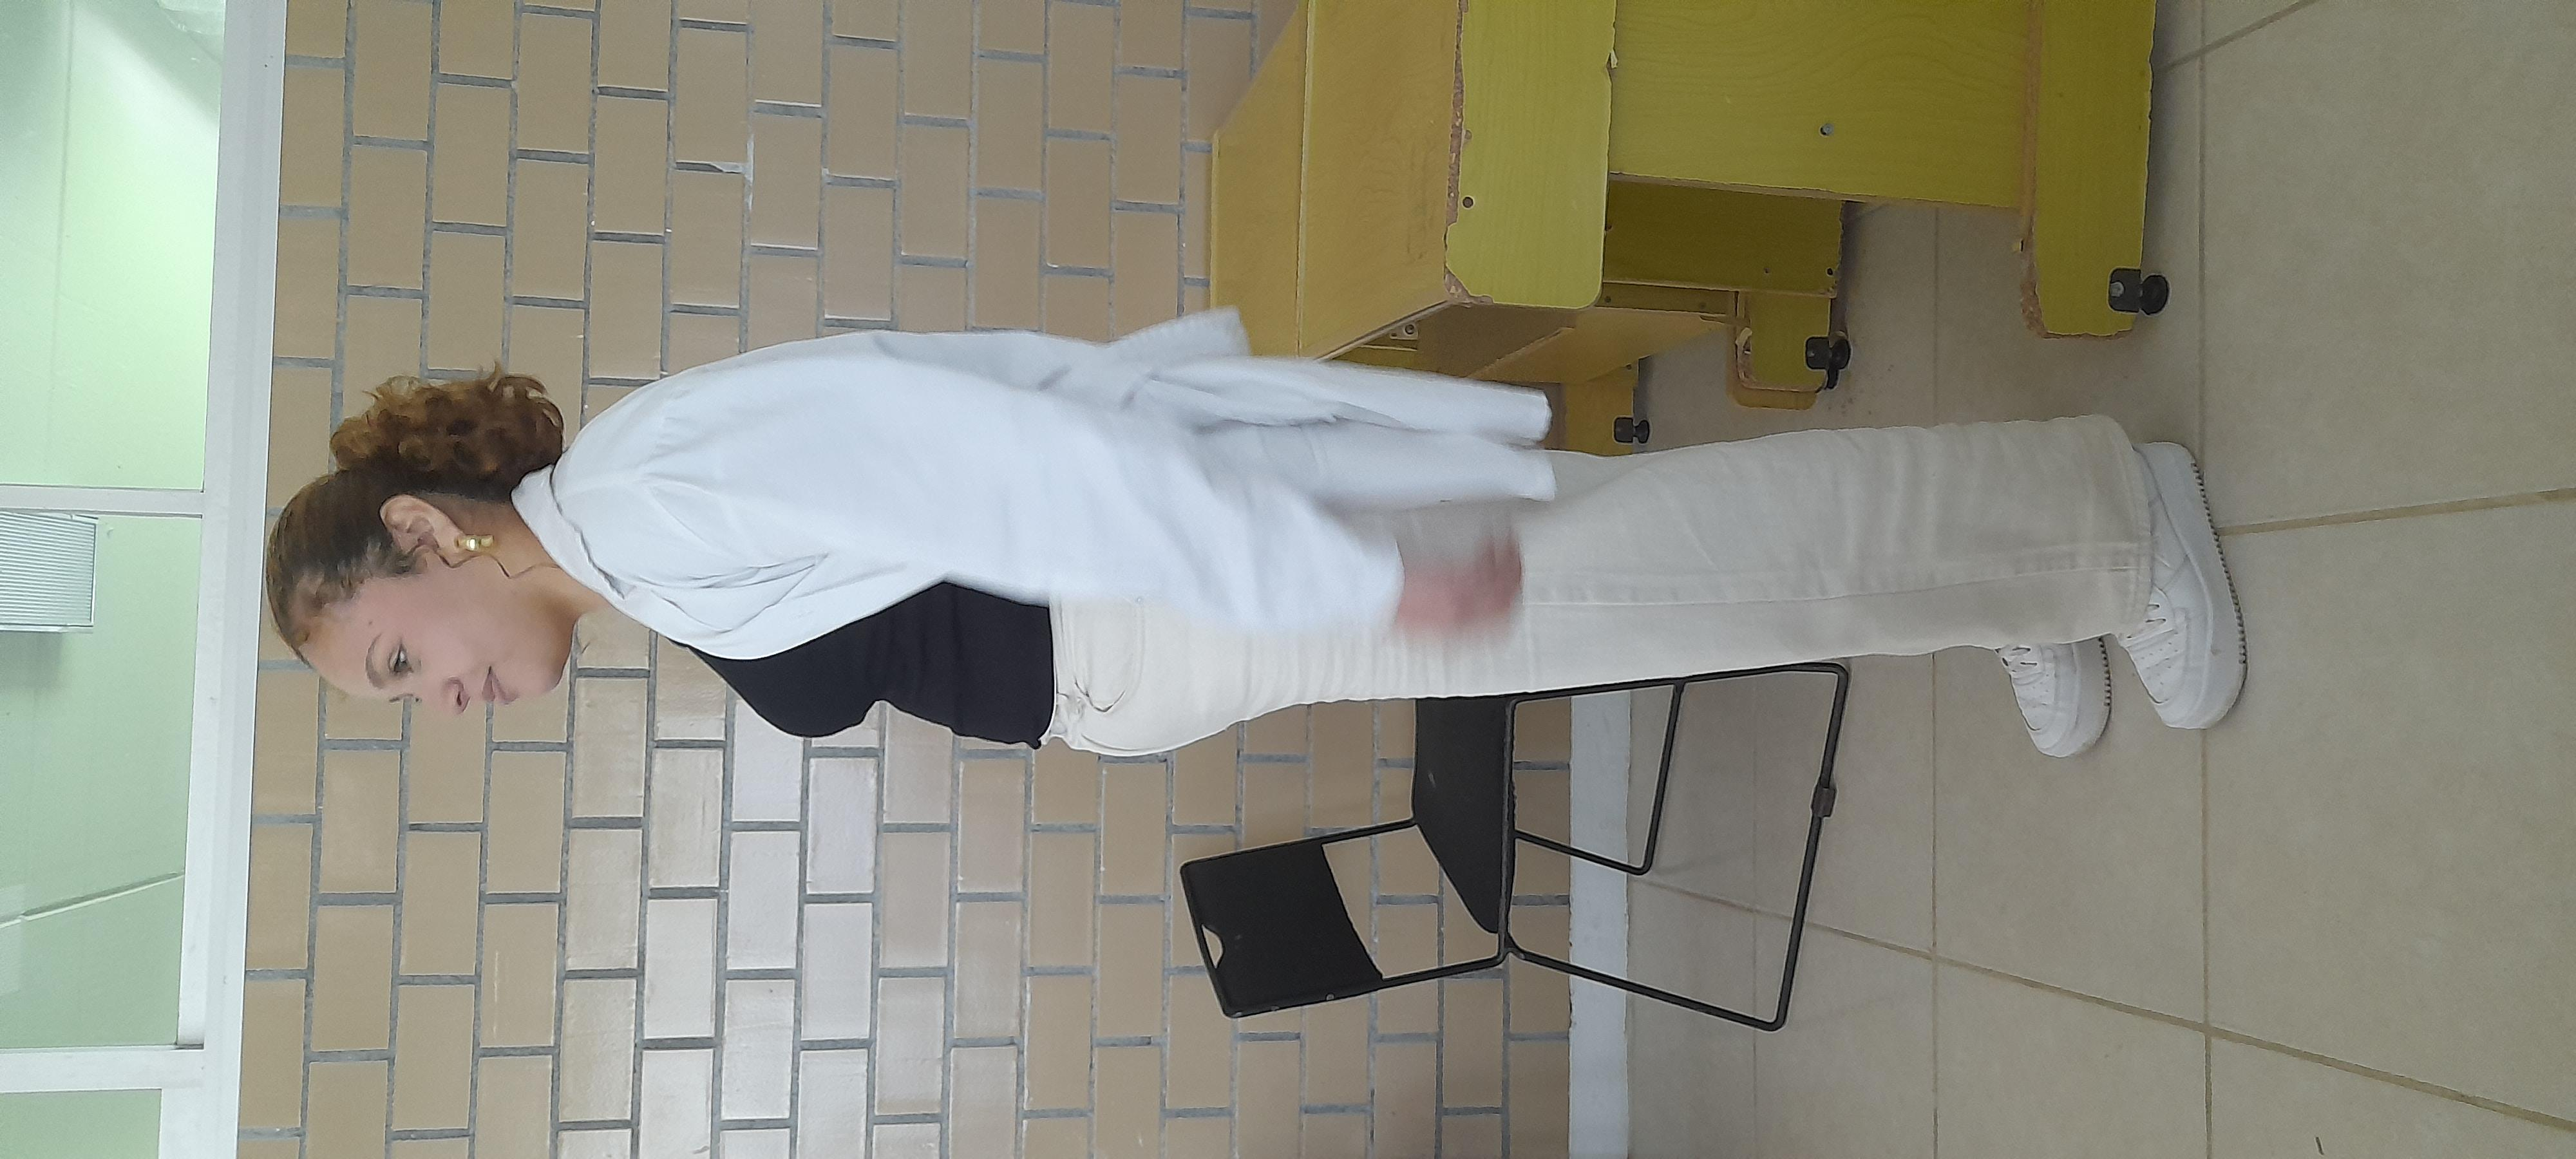Bata-Incorrecta: (586, 98, 2004, 1046)
